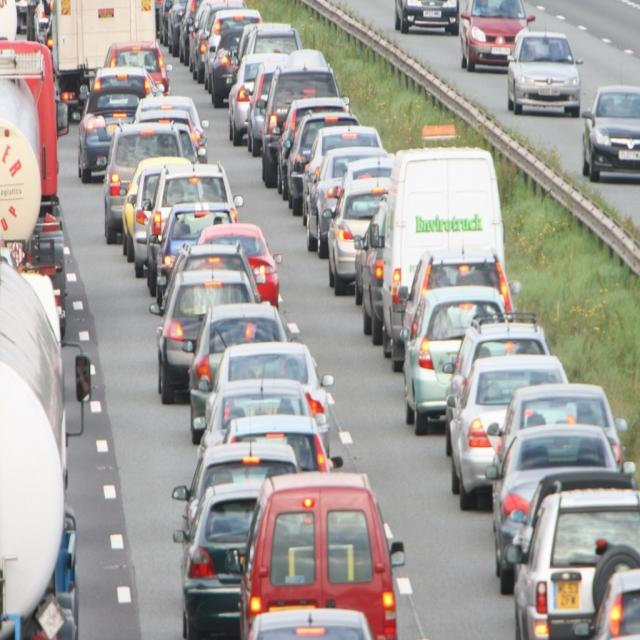Caminhao: (0, 258, 84, 636), (0, 42, 68, 330)
Carro Branco: (519, 487, 640, 640)
Carro Cinza: (494, 437, 624, 569)
Carro Prata: (435, 350, 567, 506), (401, 248, 518, 392), (199, 341, 339, 432), (212, 412, 334, 489), (197, 378, 329, 448), (502, 34, 584, 108)
Carro Preto: (158, 276, 263, 394), (187, 448, 308, 534), (575, 84, 640, 180)
Carro Verde: (405, 284, 516, 436), (181, 487, 263, 634)
Carro Vermelho: (250, 470, 400, 640), (190, 225, 280, 312), (457, 0, 537, 59)
Van Branca: (384, 143, 512, 380)
